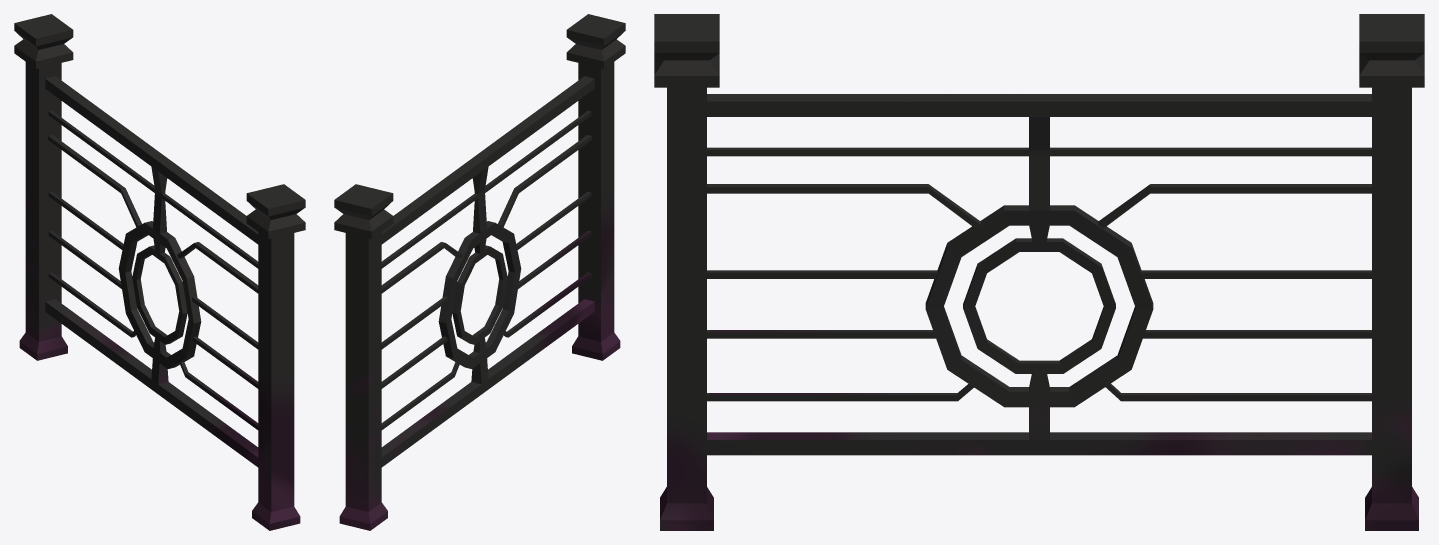
Rendered from P_IW_FENCE CONNECT.fbx.
3 views of the same model, side by side, from view 1: azimuth 30°, elevation 25°; view 2: azimuth 150°, elevation 25°; view 3: azimuth 270°, elevation 25° (orthographic). The views are drawn at different scales.
Parts seen in each view (by area): view 1: IW_Fence_Connect_01; view 2: IW_Fence_Connect_01; view 3: IW_Fence_Connect_01.
Boxes of the visible parts, left/top/right/bottom form: IW_Fence_Connect_01: left=14, top=14, right=305, bottom=530; IW_Fence_Connect_01: left=334, top=14, right=625, bottom=530; IW_Fence_Connect_01: left=654, top=14, right=1424, bottom=530.
Size of the model in its own units: 18.67 by 155 by 220.
